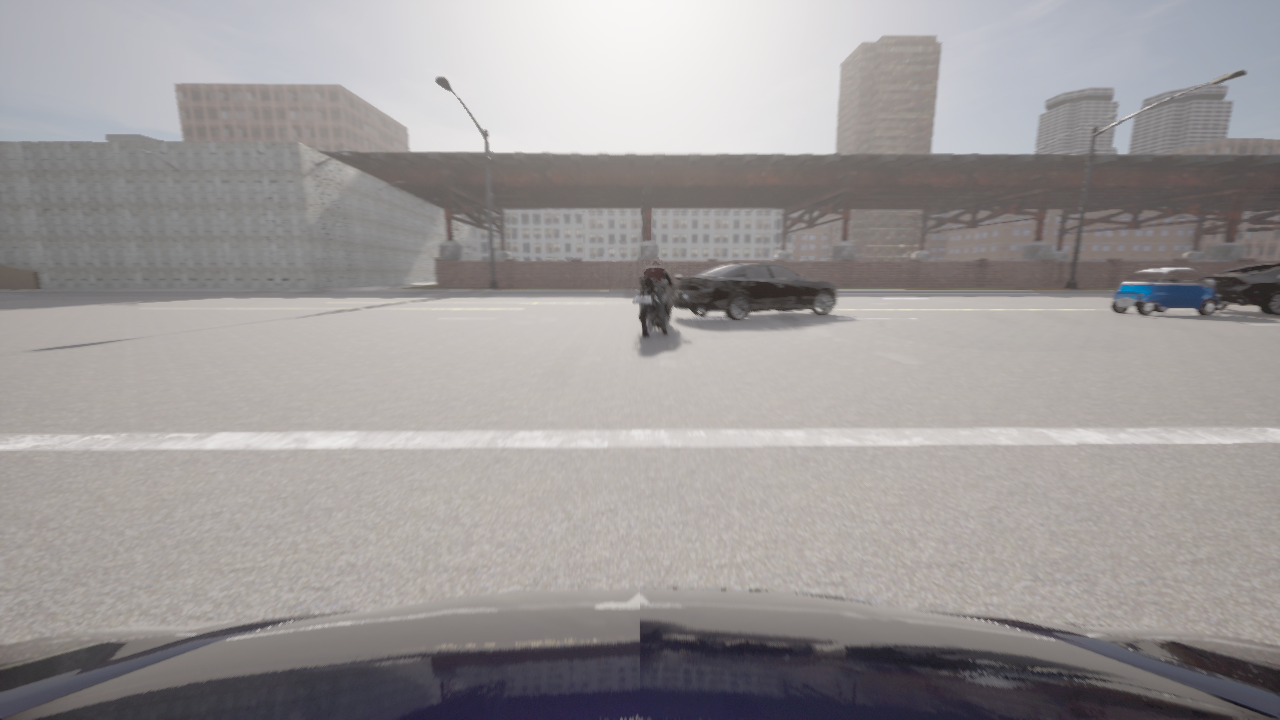cyclist: (0, 588, 1279, 719), (674, 261, 836, 320), (1110, 267, 1220, 316), (1203, 263, 1279, 315), (632, 274, 680, 337)
